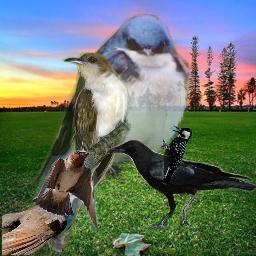Crow: (106, 138, 256, 229)
Cuckoo: (50, 52, 131, 252), (2, 190, 86, 255)
Swallow: (25, 13, 192, 220), (33, 150, 98, 232)
Woodpecker: (159, 125, 193, 184)
